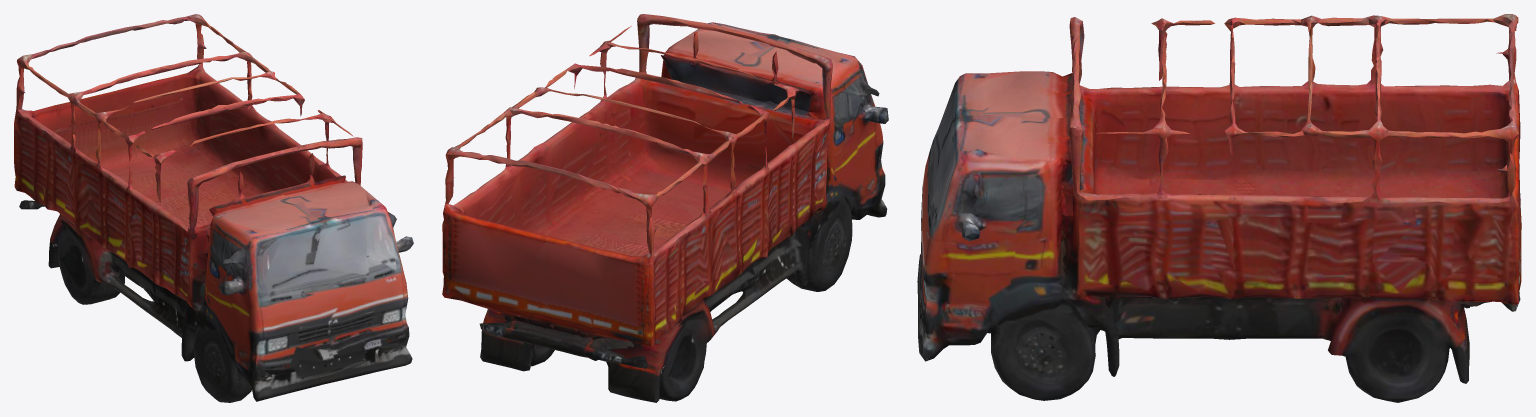
The model's file is truck.glb.
3 views of the same model, side by side, from view 1: azimuth 30°, elevation 25°; view 2: azimuth 150°, elevation 25°; view 3: azimuth 270°, elevation 25° (orthographic). The views are drawn at different scales.
Visible parts, largest first — view 1: truck; view 2: truck; view 3: truck.
Boxes of the visible parts, x1,y1,x2,y2 form: truck: (14, 14, 413, 402); truck: (442, 14, 888, 402); truck: (917, 14, 1521, 402).
Bounding box in the file's own units: 2.72 × 3.03 × 5.6.
1 material, 1 textured.
